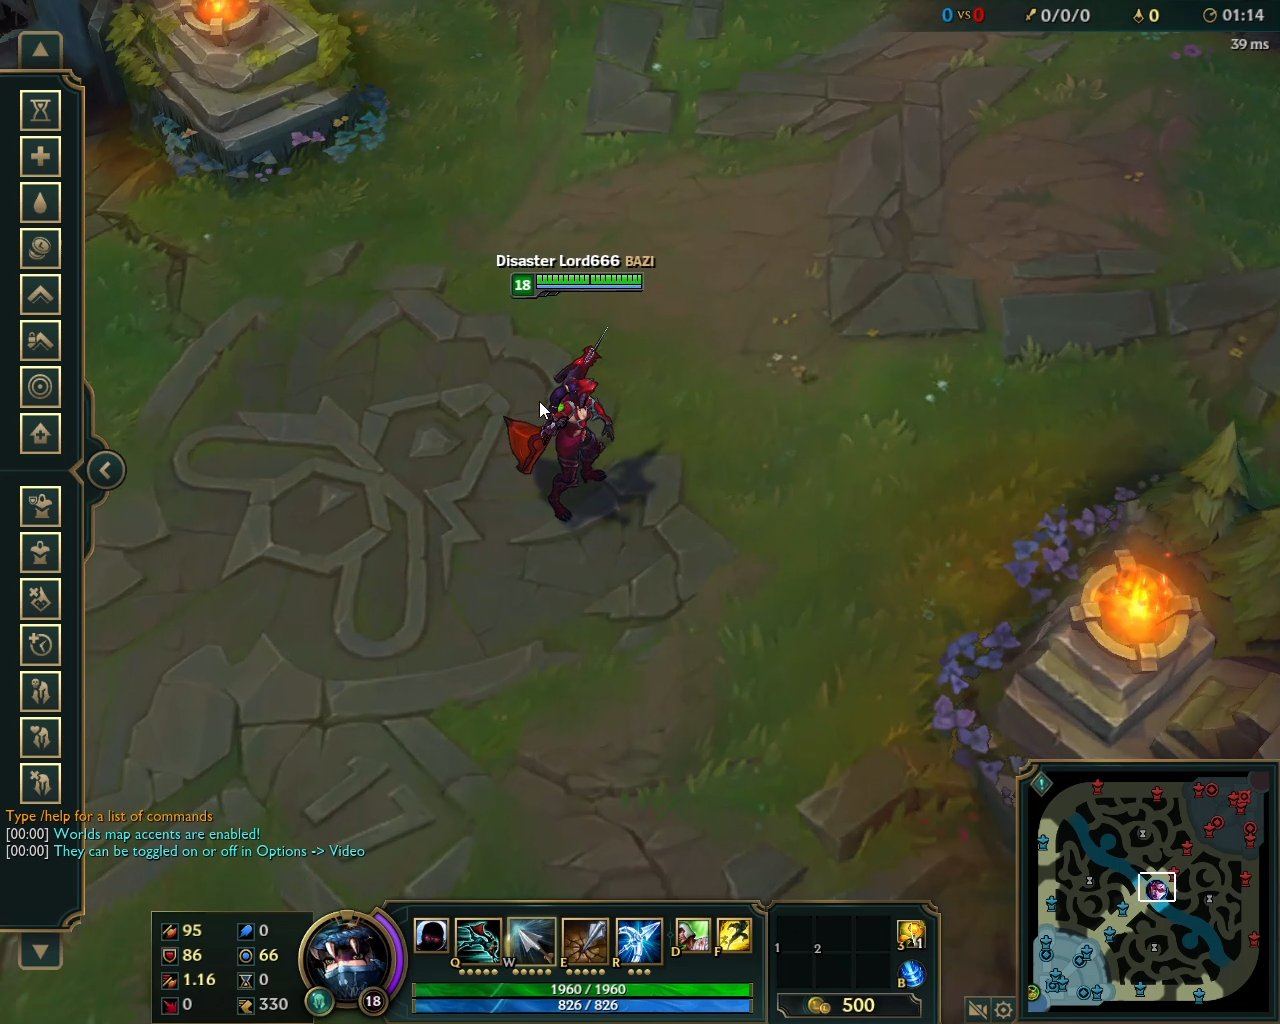Vayne: (496, 329, 623, 523)
